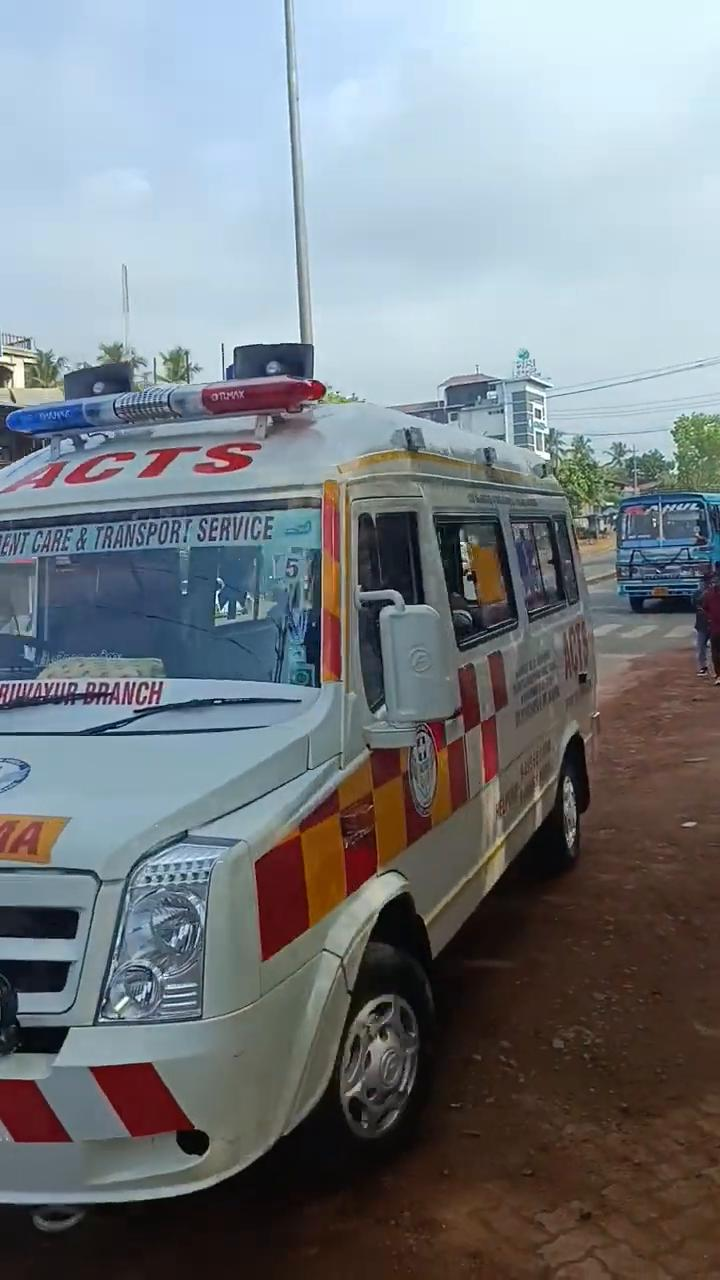AMBULANCE: (0, 302, 622, 1263)
